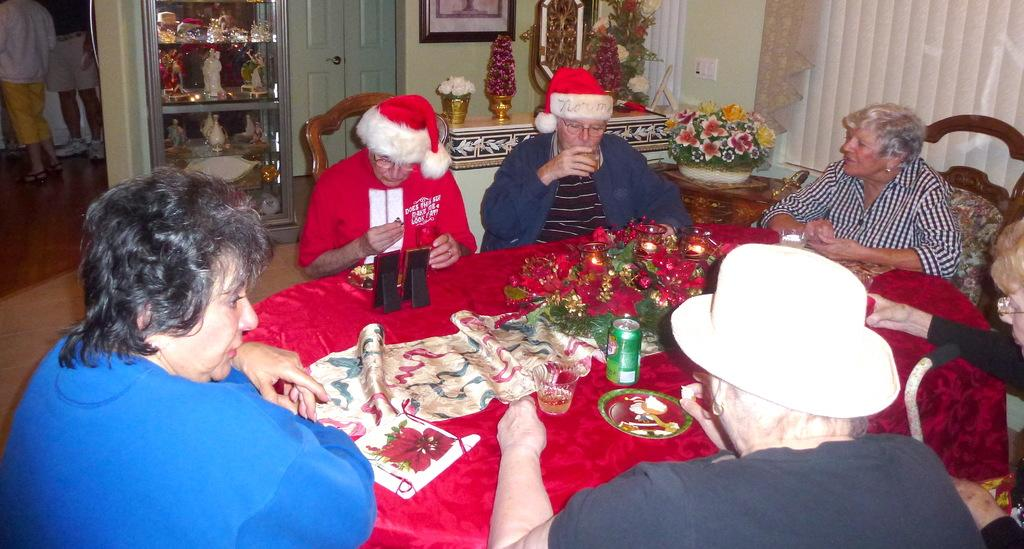Hat: (667, 243, 903, 420)
